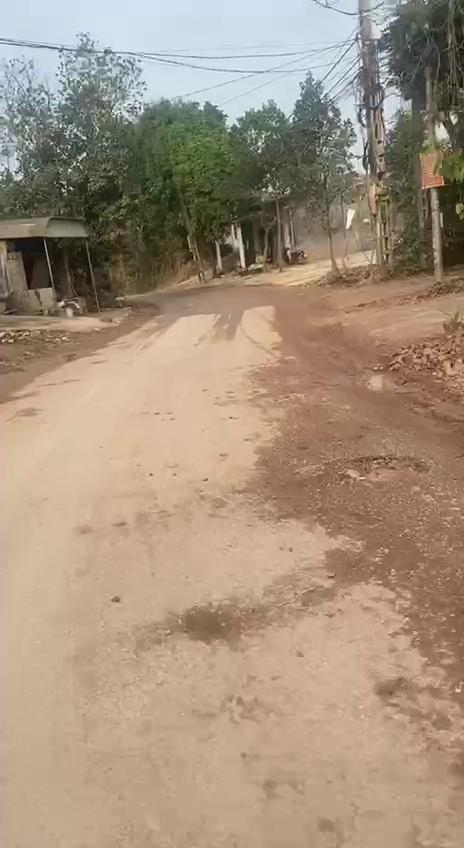pothole: (308, 450, 434, 487), (185, 598, 249, 652)
